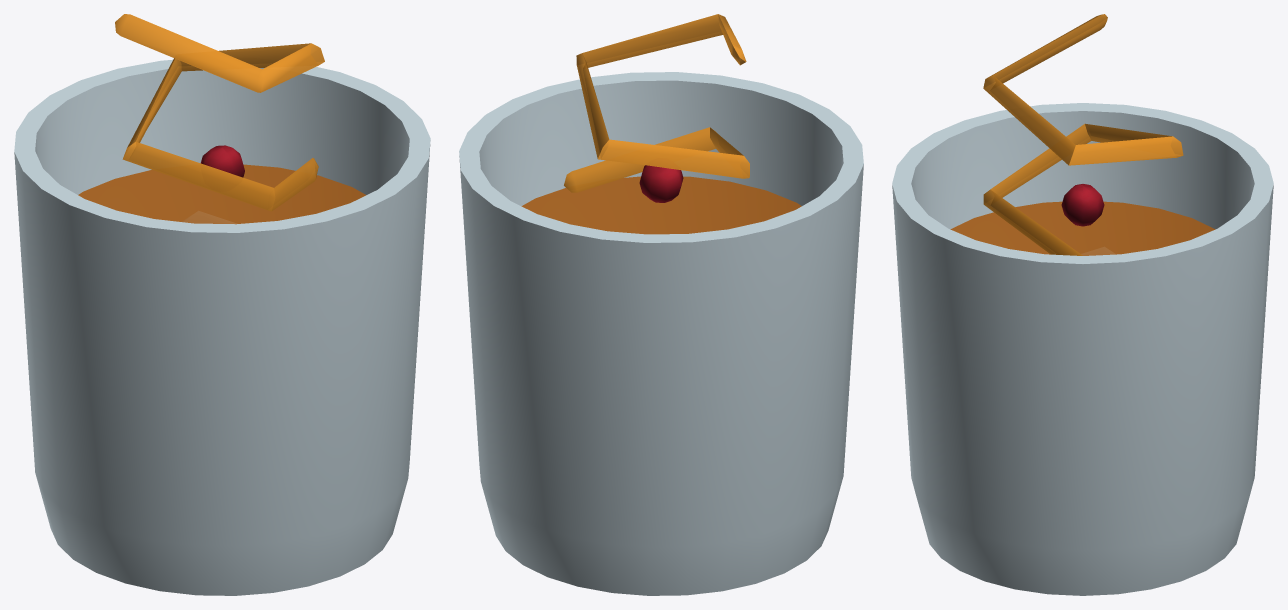
The model's file is cocktail_old_fashioned_orange.glb.
The picture shows the model from 3 angles, left to right: view 1: azimuth 30°, elevation 25°; view 2: azimuth 150°, elevation 25°; view 3: azimuth 270°, elevation 25°; orthographic projection. The views are drawn at different scales.
Parts seen in each view (by area): view 1: cocktail_old_fashioned_orange; view 2: cocktail_old_fashioned_orange; view 3: cocktail_old_fashioned_orange.
Boxes of the visible parts, left/top/right/bottom form: cocktail_old_fashioned_orange: left=14, top=14, right=430, bottom=595; cocktail_old_fashioned_orange: left=459, top=14, right=863, bottom=595; cocktail_old_fashioned_orange: left=892, top=14, right=1273, bottom=595.
Bounding box in the file's own units: 0.08 × 0.1104 × 0.08.
Materials: 5 (1 with a texture image).
